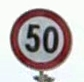limite 50: (9, 7, 71, 70)
